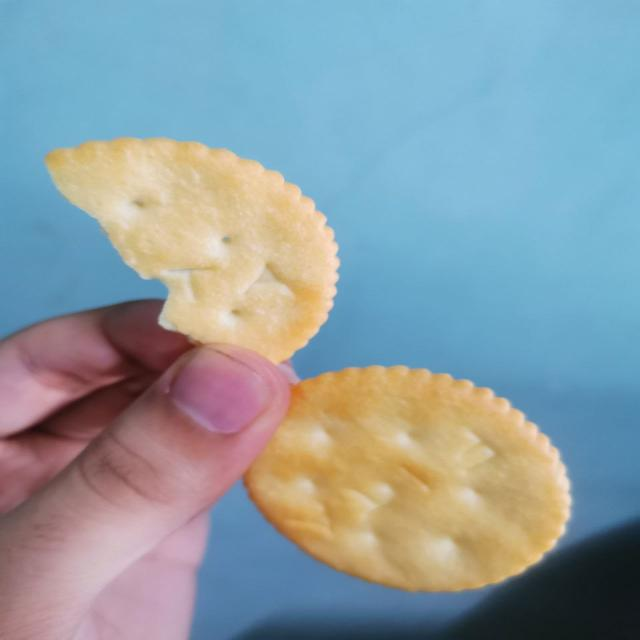broken biscuit: (50, 129, 348, 364)
intact biscuit: (241, 362, 574, 594)
